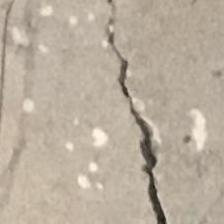Crack: (73, 0, 185, 224)
